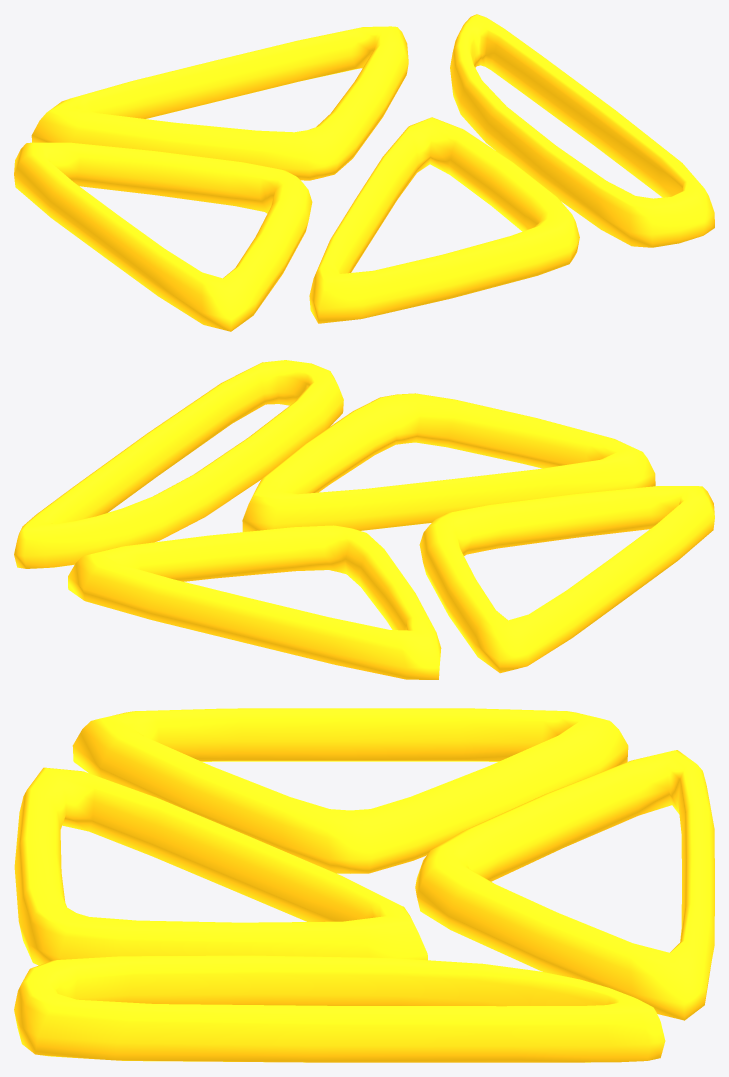
The model's file is GoldenSymbol.fbx.
3 views of the same model, one above another, from view 1: azimuth 30°, elevation 25°; view 2: azimuth 150°, elevation 25°; view 3: azimuth 270°, elevation 25° (orthographic). The views are drawn at different scales.
Visible parts, largest first — view 1: GoldenSymbol; view 2: GoldenSymbol; view 3: GoldenSymbol.
Boxes of the visible parts, <box> form: GoldenSymbol: <box>14,14,714,331</box>; GoldenSymbol: <box>14,360,714,679</box>; GoldenSymbol: <box>14,708,714,1062</box>.
Size of the model in its own units: 2.39 by 0.1936 by 2.24.
